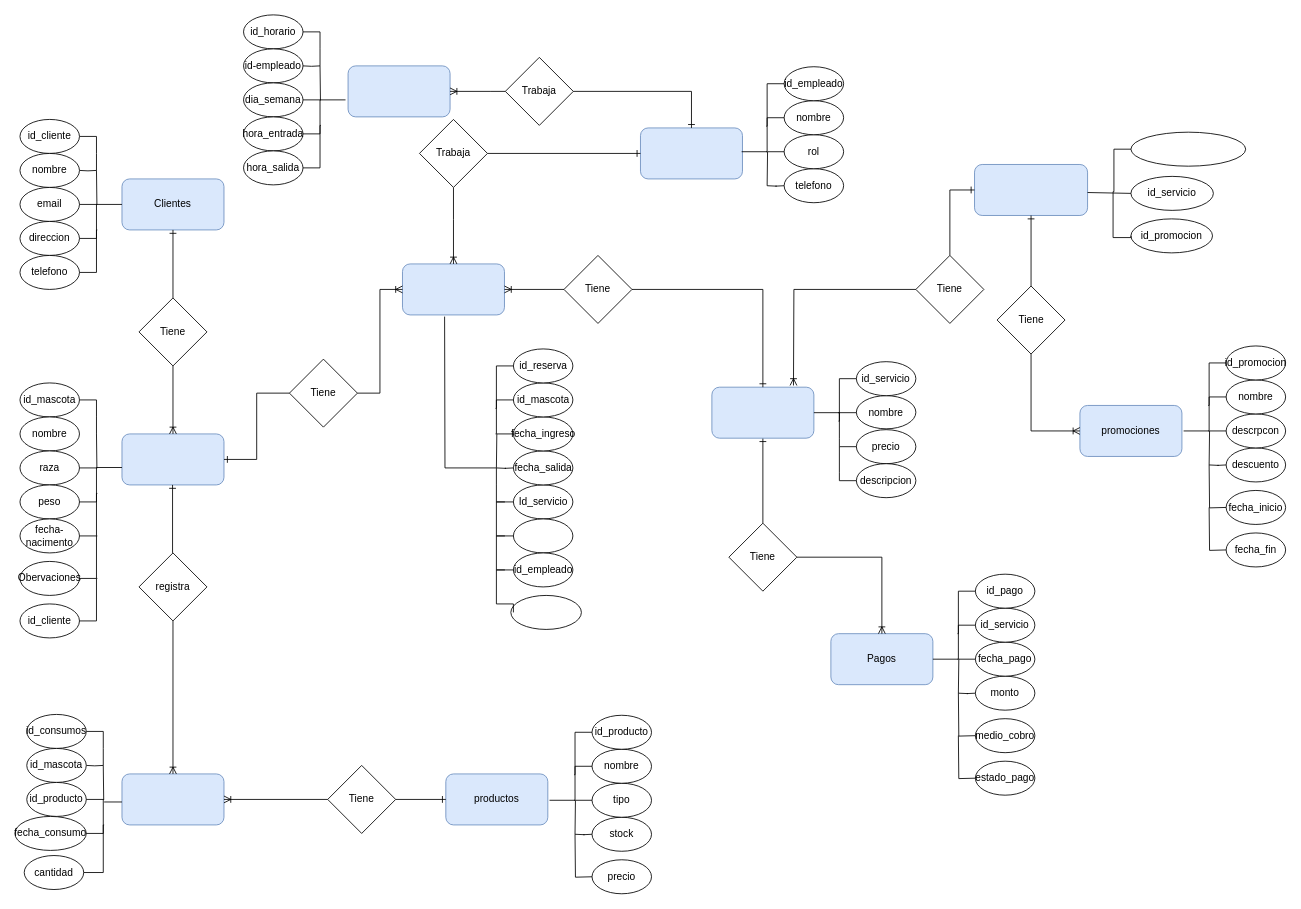
Image size: 1301x909. Some labels were removed from this diagram. Each missing label, with the box of its shape:
Consumos: (121, 773, 224, 825)
Empleados: (640, 127, 742, 179)
estado: (513, 518, 573, 553)
horarios_empleados: (347, 65, 450, 117)
id_servicios_promocion: (1130, 131, 1246, 166)
Mascotas: (121, 433, 224, 485)
Observaciones: (510, 595, 581, 629)
Reservas: (402, 263, 504, 315)
Servicios: (711, 386, 814, 438)
servicios_promociones: (974, 164, 1088, 215)
